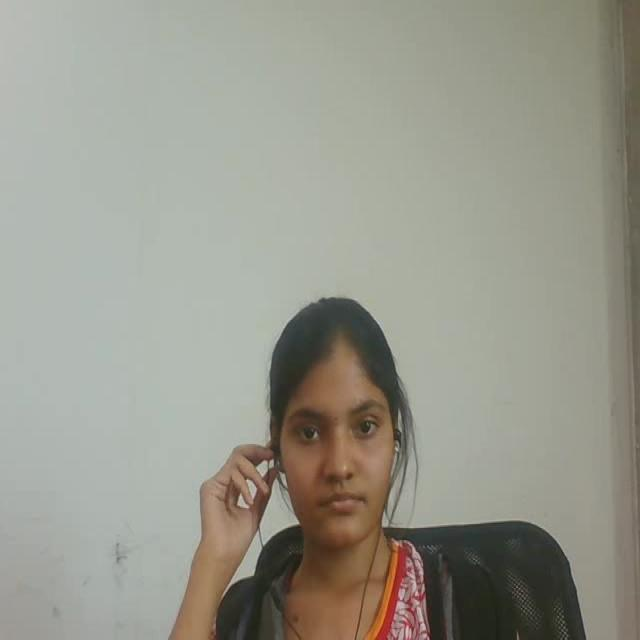Engaged: (255, 286, 435, 568)
